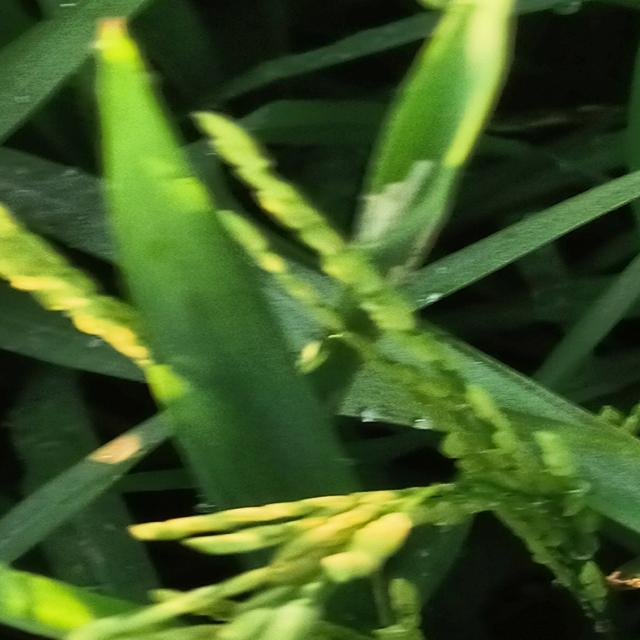brown plant hopper: (350, 110, 461, 277)
